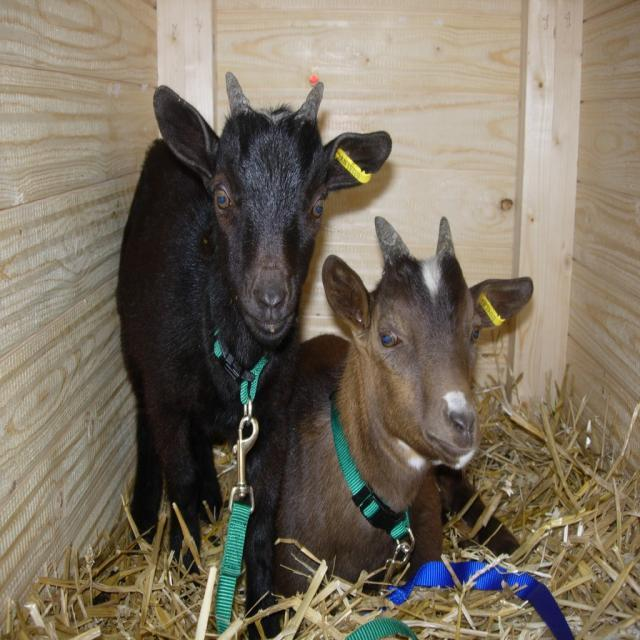Goat: (115, 69, 392, 625), (270, 213, 533, 629)
